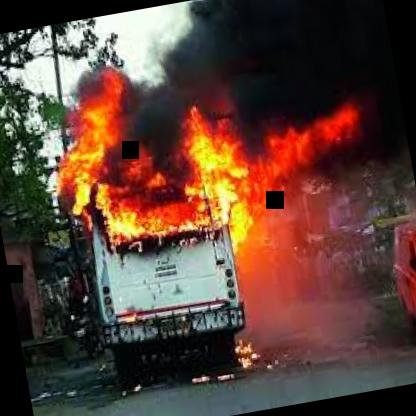fire: (60, 45, 330, 389)
